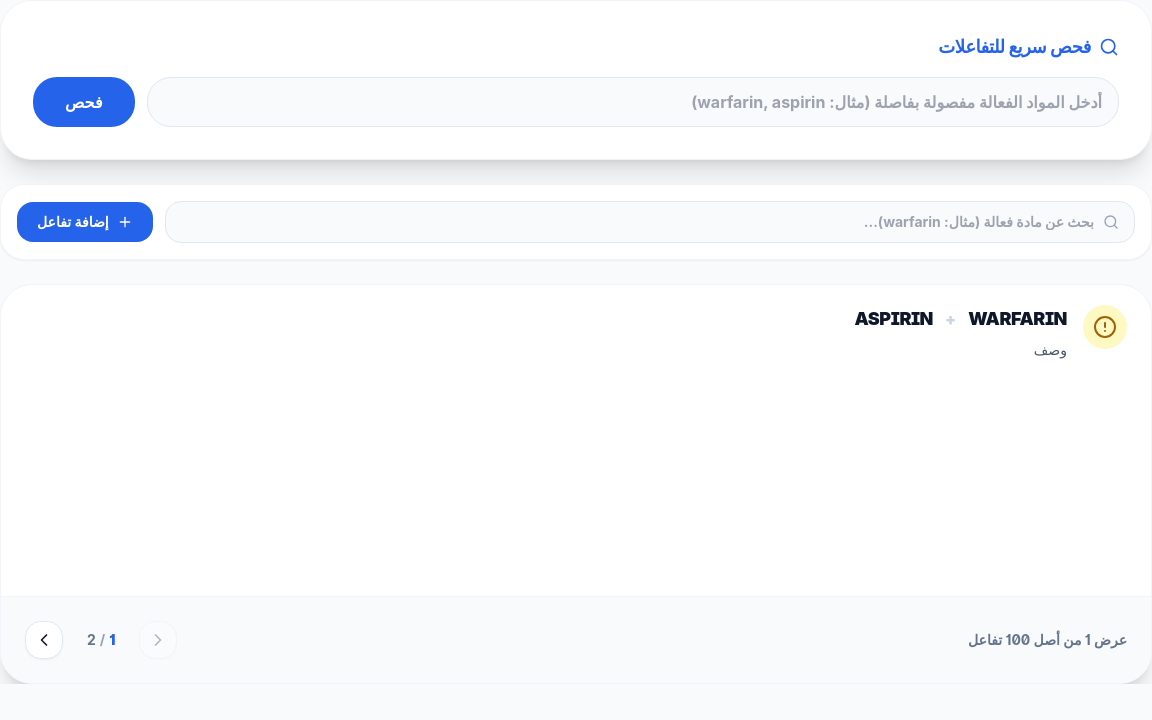
remaining module UI accessibility › names interaction search, add-form fields, and pagination controls
Expected: the field named "المواد الفعالة للفحص السريع" is shown, left=147, top=77, right=1119, bottom=127
Expected: the field named "بحث في التفاعلات الدوائية" is shown, left=165, top=201, right=1135, bottom=243
Click the button "إضافة تفاعل": (85, 222) left=17, top=202, right=153, bottom=242
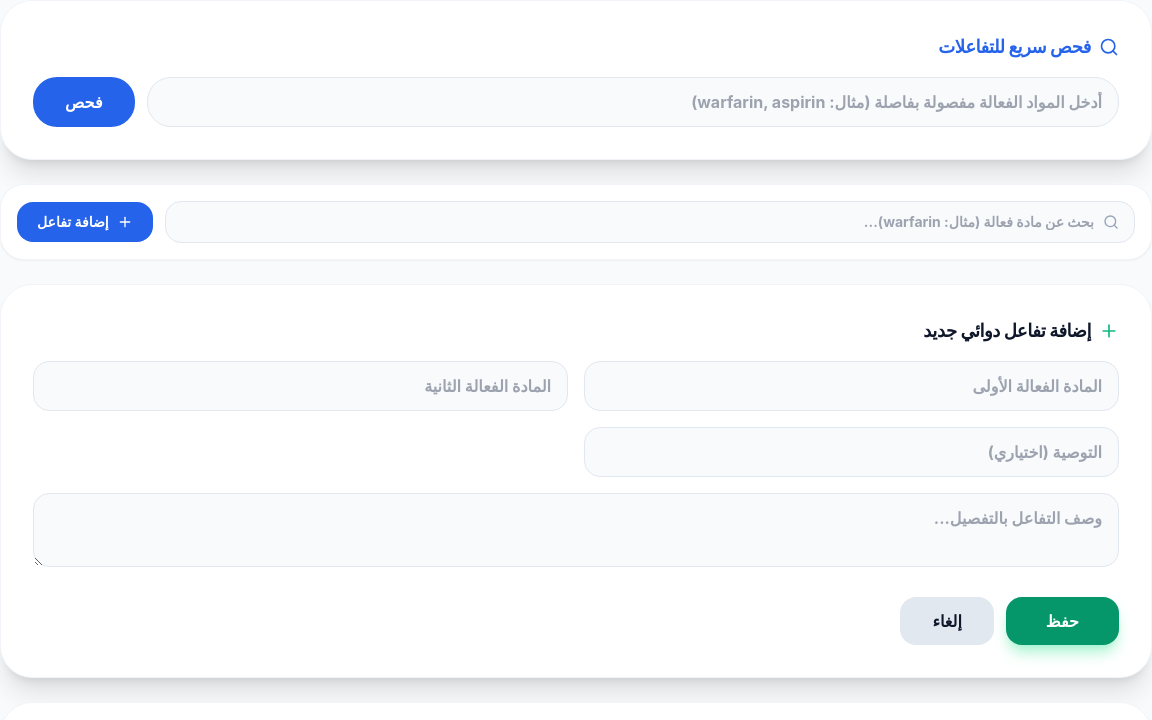
Result: the form "إضافة تفاعل دوائي جديد" is shown at left=0, top=284, right=1151, bottom=678
Result: the field labelled "المادة الفعالة الأولى" is shown at left=584, top=361, right=1119, bottom=411
Result: the field labelled "المادة الفعالة الثانية" is shown at left=33, top=361, right=568, bottom=411
